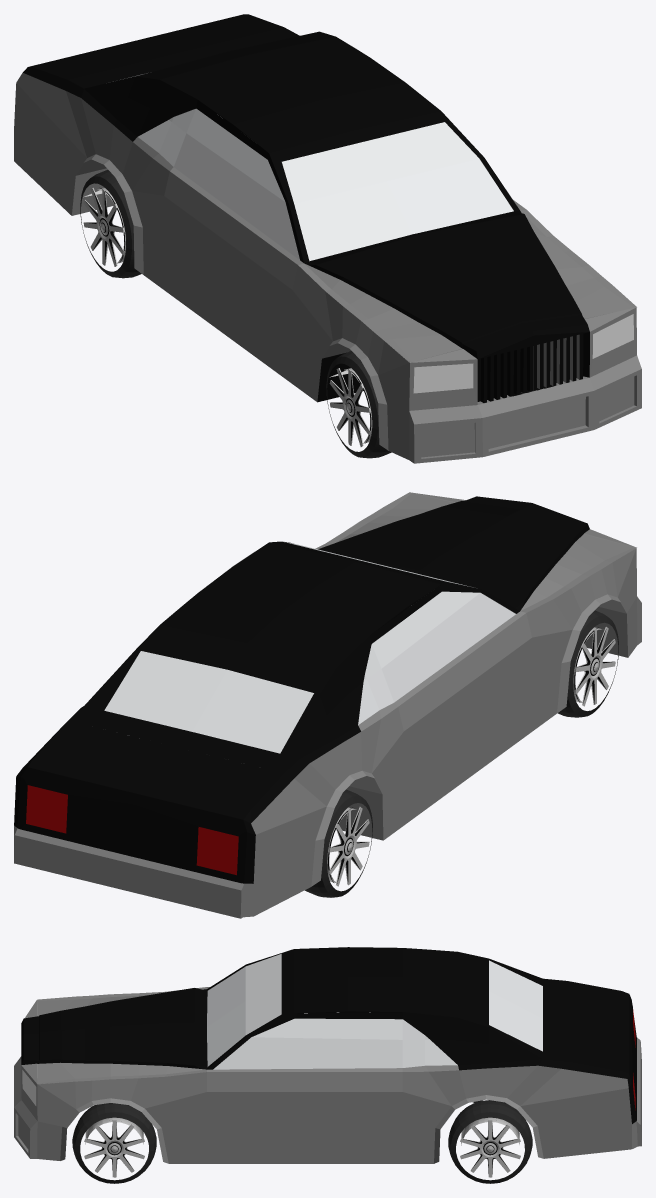
File: rolls-royce.glb
3 views of the same model, one above another, from view 1: azimuth 30°, elevation 25°; view 2: azimuth 150°, elevation 25°; view 3: azimuth 270°, elevation 25° (orthographic). The views are drawn at different scales.
Parts seen in each view (by area): view 1: wheel1_Circle.001; view 2: wheel1_Circle.001; view 3: wheel1_Circle.001.
Part boxes in pixels (x1,y1,x2,y2): wheel1_Circle.001: [14, 14, 641, 463]; wheel1_Circle.001: [14, 492, 641, 918]; wheel1_Circle.001: [14, 947, 641, 1183].
Bounding box in the file's own units: 67.49 × 55.2 × 191.
Materials: 1 (1 with a texture image).
